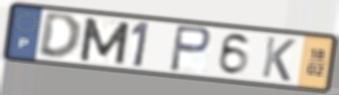1: (128, 20, 151, 70)
6: (216, 32, 252, 77)
D: (36, 12, 84, 62)
K: (259, 34, 298, 83)
M: (77, 16, 133, 67)
P: (167, 23, 214, 74)
